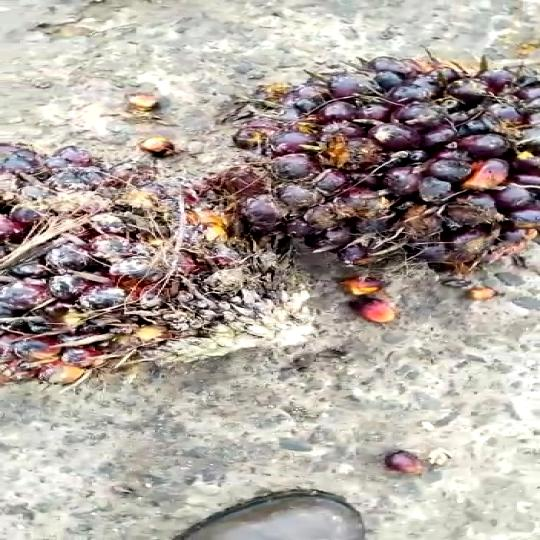kurang masak: (209, 36, 540, 286), (0, 149, 316, 384)
